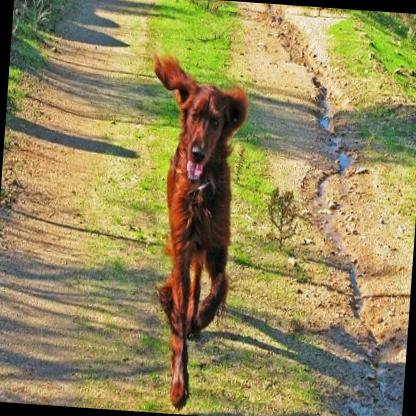Irish_setter: (129, 53, 251, 410)
